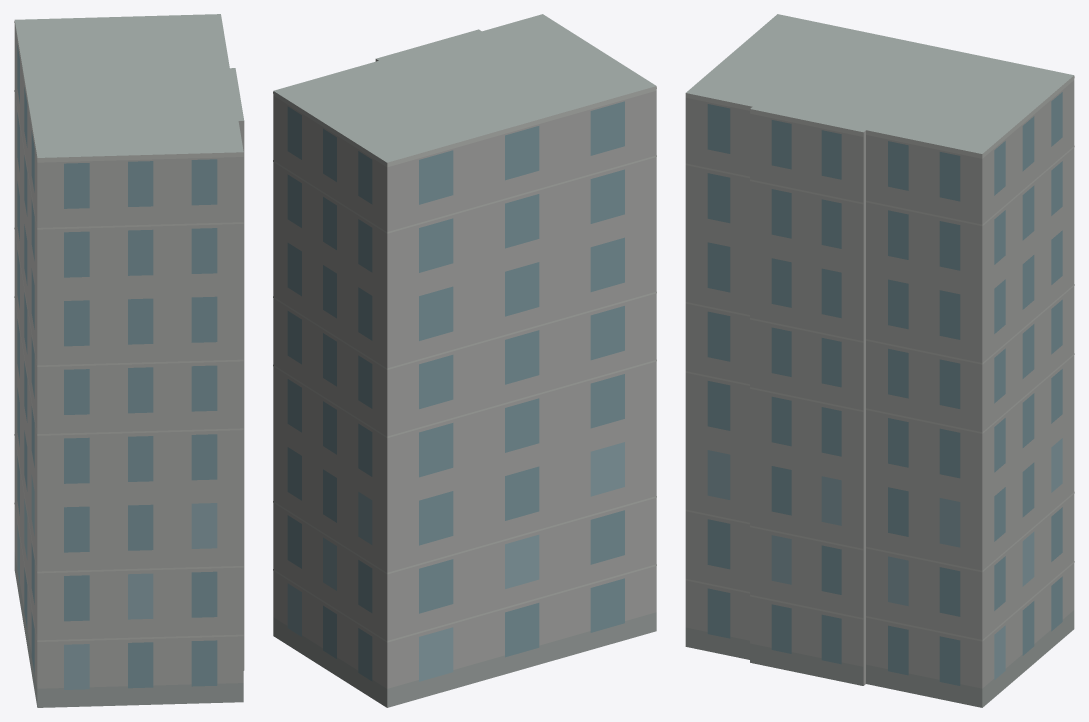
The model's file is survey-upis-32531516.glb.
3 views of the same model, side by side, from view 1: azimuth 30°, elevation 25°; view 2: azimuth 150°, elevation 25°; view 3: azimuth 270°, elevation 25° (orthographic).
Visible parts, largest first — view 1: survey-upis-32531516.tmp; view 2: survey-upis-32531516.tmp; view 3: survey-upis-32531516.tmp.
Part boxes in pixels (bbox=[...]): survey-upis-32531516.tmp: bbox=[14, 14, 244, 707]; survey-upis-32531516.tmp: bbox=[273, 14, 656, 707]; survey-upis-32531516.tmp: bbox=[685, 14, 1074, 707].
Size of the model in its own units: 15.6 by 28.7 by 18.28.
